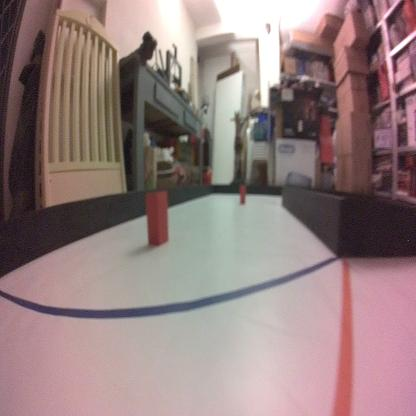red: (146, 191, 169, 247), (241, 186, 245, 204)
